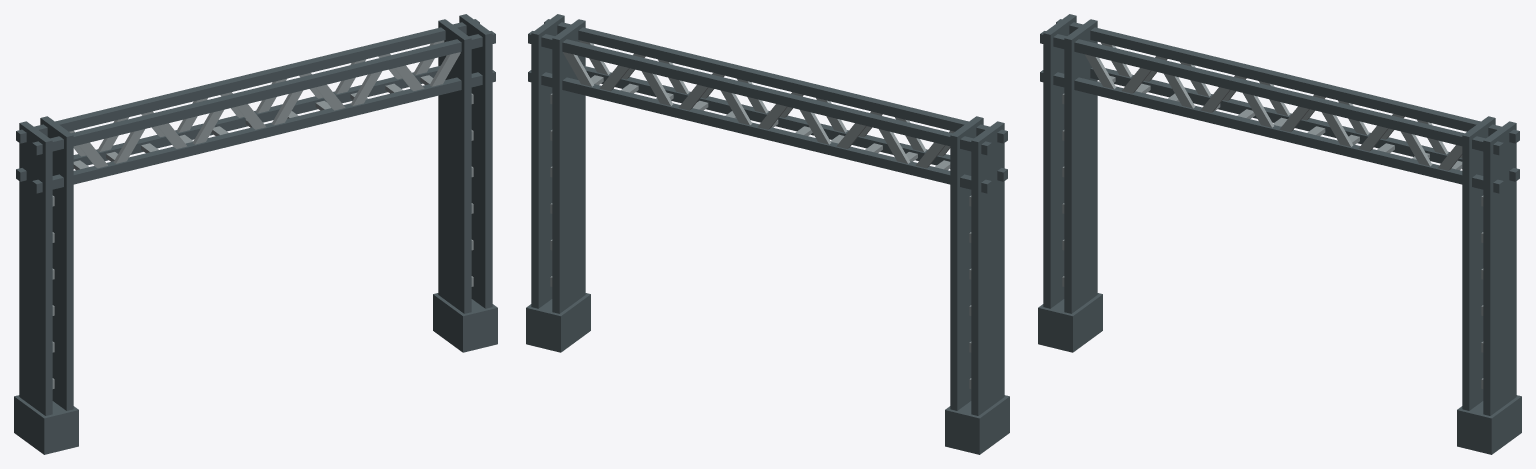
File: SM_Street_Board_5.fbx
The picture shows the model from 3 angles, left to right: view 1: azimuth 30°, elevation 25°; view 2: azimuth 150°, elevation 25°; view 3: azimuth 330°, elevation 25°; orthographic projection.
Visible parts, largest first — view 1: SM_Street_Board_5_LOD0; view 2: SM_Street_Board_5_LOD0; view 3: SM_Street_Board_5_LOD0.
Part boxes in pixels (x1,y1,x2,y2): SM_Street_Board_5_LOD0: (14,14,497,454); SM_Street_Board_5_LOD0: (526,14,1009,454); SM_Street_Board_5_LOD0: (1038,14,1521,454).
Bounding box in the file's own units: 1316 × 150 × 850.
Materials: 1 (1 with a texture image).
